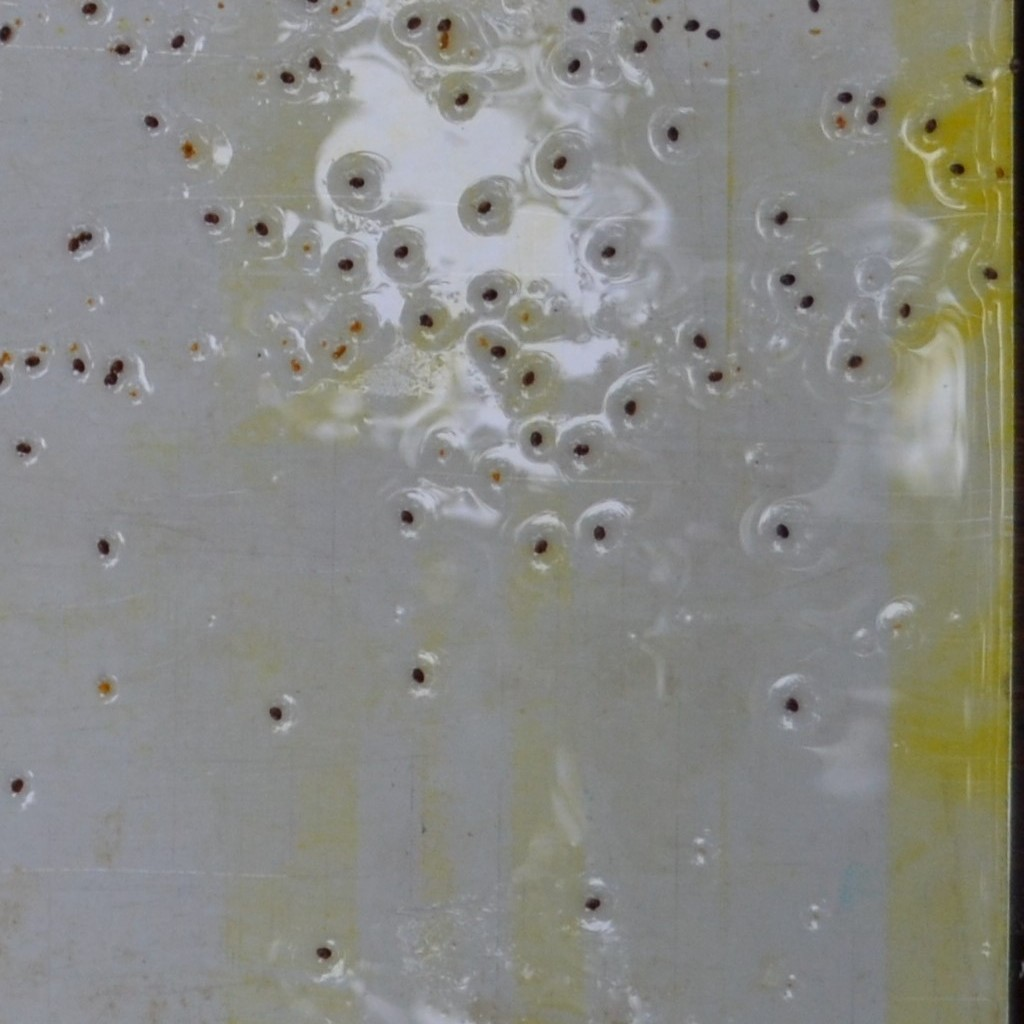varroa: (479, 284, 501, 308), (962, 67, 986, 89), (518, 364, 539, 388), (453, 86, 470, 114), (782, 692, 800, 718), (589, 522, 610, 544), (167, 33, 190, 53), (550, 152, 569, 176), (772, 204, 791, 228), (93, 535, 112, 559), (345, 175, 370, 193), (572, 439, 593, 460), (582, 894, 603, 915), (947, 161, 967, 183), (435, 12, 455, 34), (773, 522, 795, 542), (565, 57, 584, 80), (268, 702, 285, 727), (835, 85, 855, 106), (532, 537, 554, 556), (313, 943, 335, 962), (112, 42, 135, 60), (488, 341, 506, 364), (679, 17, 703, 34), (197, 209, 221, 226), (845, 352, 865, 372), (705, 365, 725, 385), (306, 53, 325, 74), (140, 113, 161, 132), (404, 13, 422, 35), (409, 664, 427, 686), (8, 777, 26, 799), (475, 198, 494, 218), (399, 505, 418, 525), (100, 369, 119, 389), (922, 115, 940, 136), (981, 261, 1000, 280), (778, 270, 797, 289), (599, 242, 618, 261), (253, 217, 271, 237), (569, 5, 586, 26), (868, 91, 887, 109), (863, 107, 881, 126), (80, 0, 99, 18), (14, 439, 33, 457), (797, 294, 814, 314), (630, 39, 651, 55), (529, 427, 545, 448), (70, 357, 88, 375), (337, 255, 355, 273), (664, 124, 681, 143), (108, 355, 125, 374), (650, 14, 666, 34), (703, 27, 725, 41), (279, 68, 296, 86), (692, 332, 709, 350), (23, 353, 41, 370), (417, 309, 433, 328), (623, 398, 638, 418), (392, 241, 408, 259), (898, 301, 913, 320), (0, 23, 13, 44), (805, 0, 823, 14), (66, 236, 79, 255), (78, 229, 86, 244)
